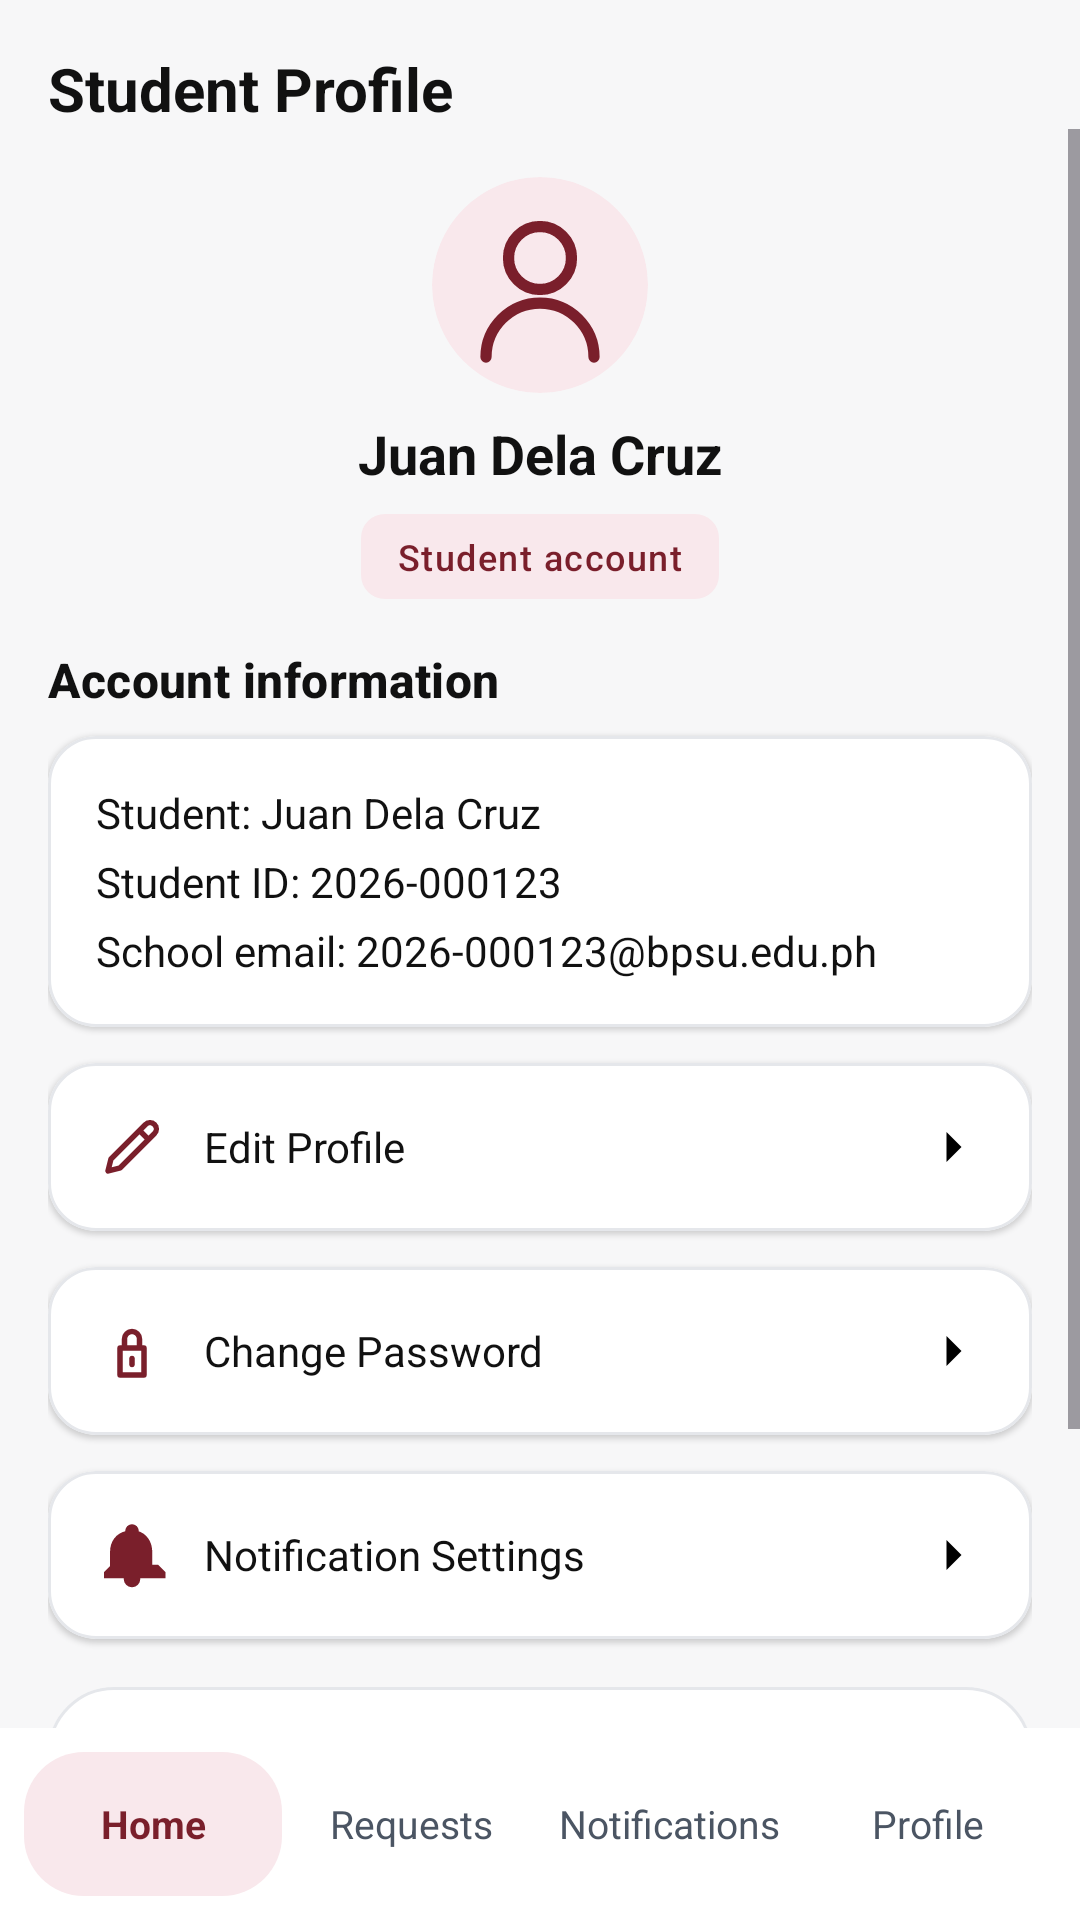

Icons on this 1080w x 1920h Android screen, each with the point to tap as [x,y]:
bell: [135,1556]
chevron right: [954,1147], [954,1351], [954,1555]
lock: [132,1353]
